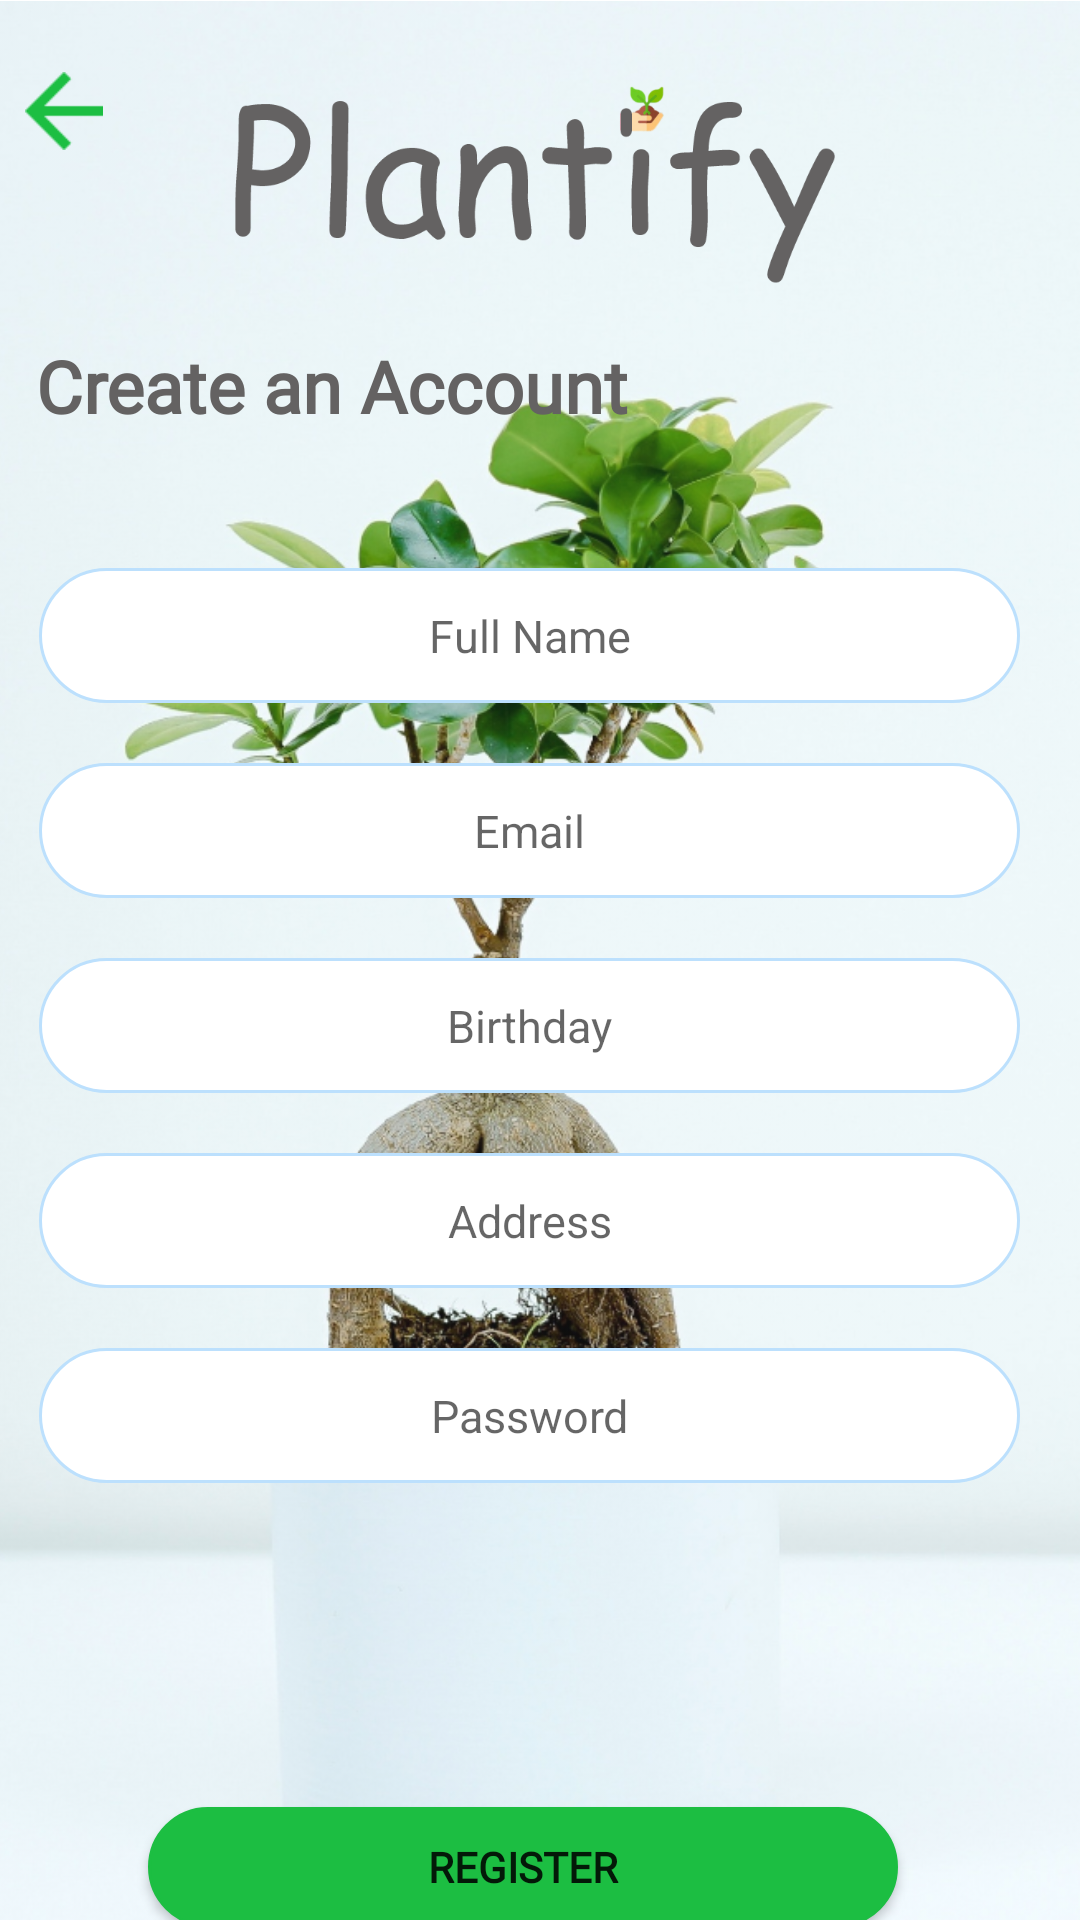

Where icons sit on this 1080×1920 app screen, as (left=x1, top=y1, right=x2, bottom=y2):
arrow back: (left=25, top=72, right=103, bottom=150)
